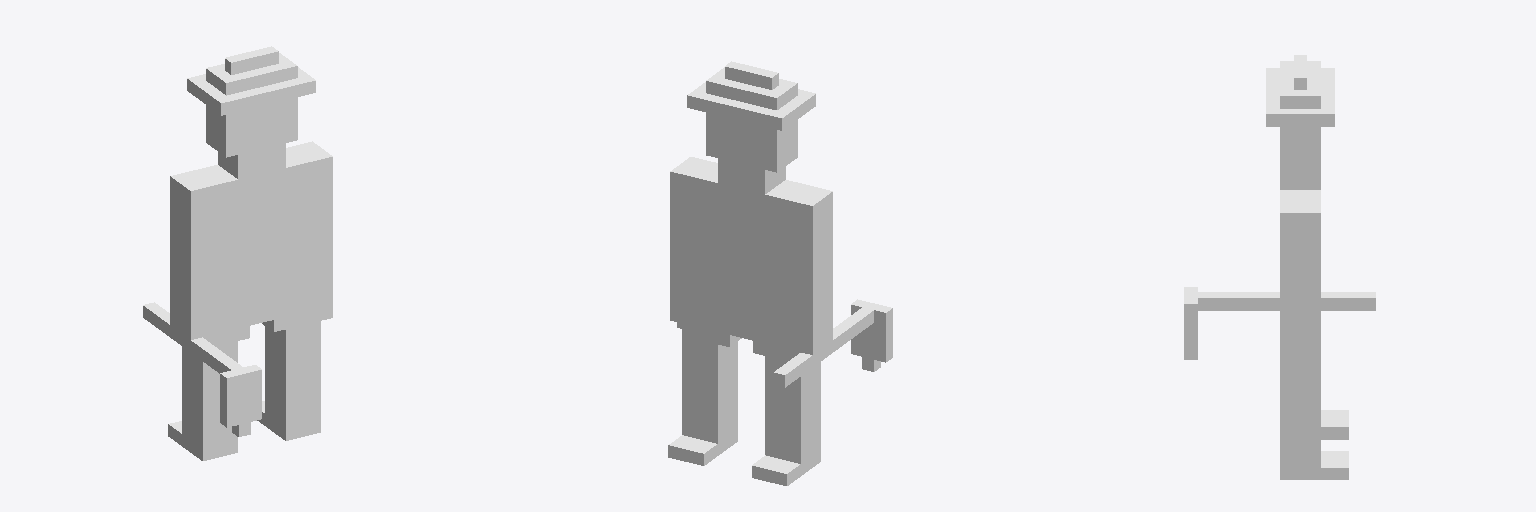
The model's file is farmer(enemy).obj.
3 renders of one model, left to right at view 1: azimuth 30°, elevation 25°; view 2: azimuth 150°, elevation 25°; view 3: azimuth 270°, elevation 25°, orthographic.
Parts seen in each view (by area): view 1: object 1; view 2: object 1; view 3: object 1.
Part boxes in pixels (x1,y1,x2,y2): object 1: (143,46,332,460); object 1: (668,61,892,485); object 1: (1184,55,1375,479).
Size of the model in its own units: 1.3 by 3.1 by 1.4.